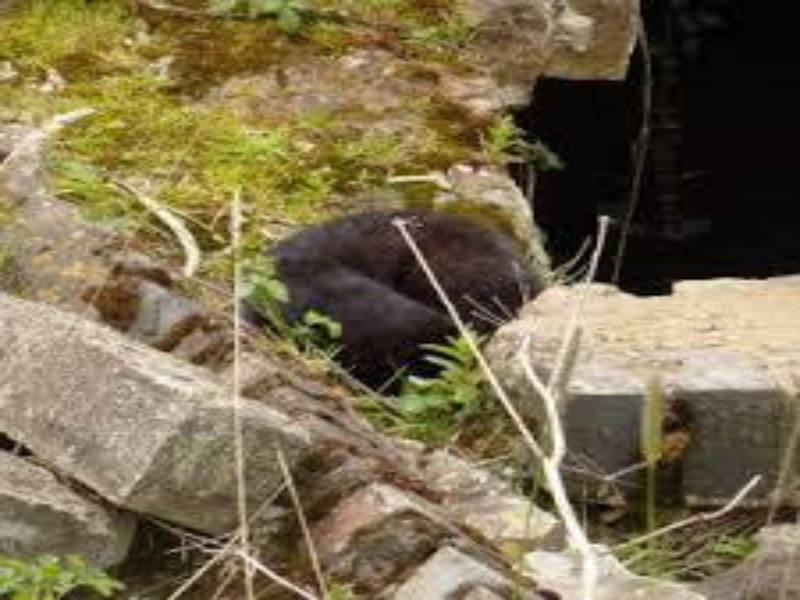minkish: (257, 216, 545, 401)
